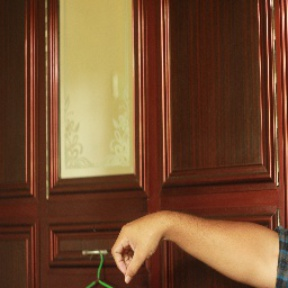O: (111, 212, 161, 273)
